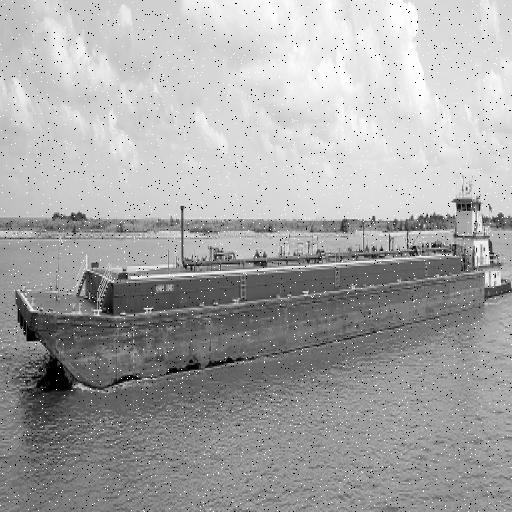tugboat: (427, 170, 512, 321)
